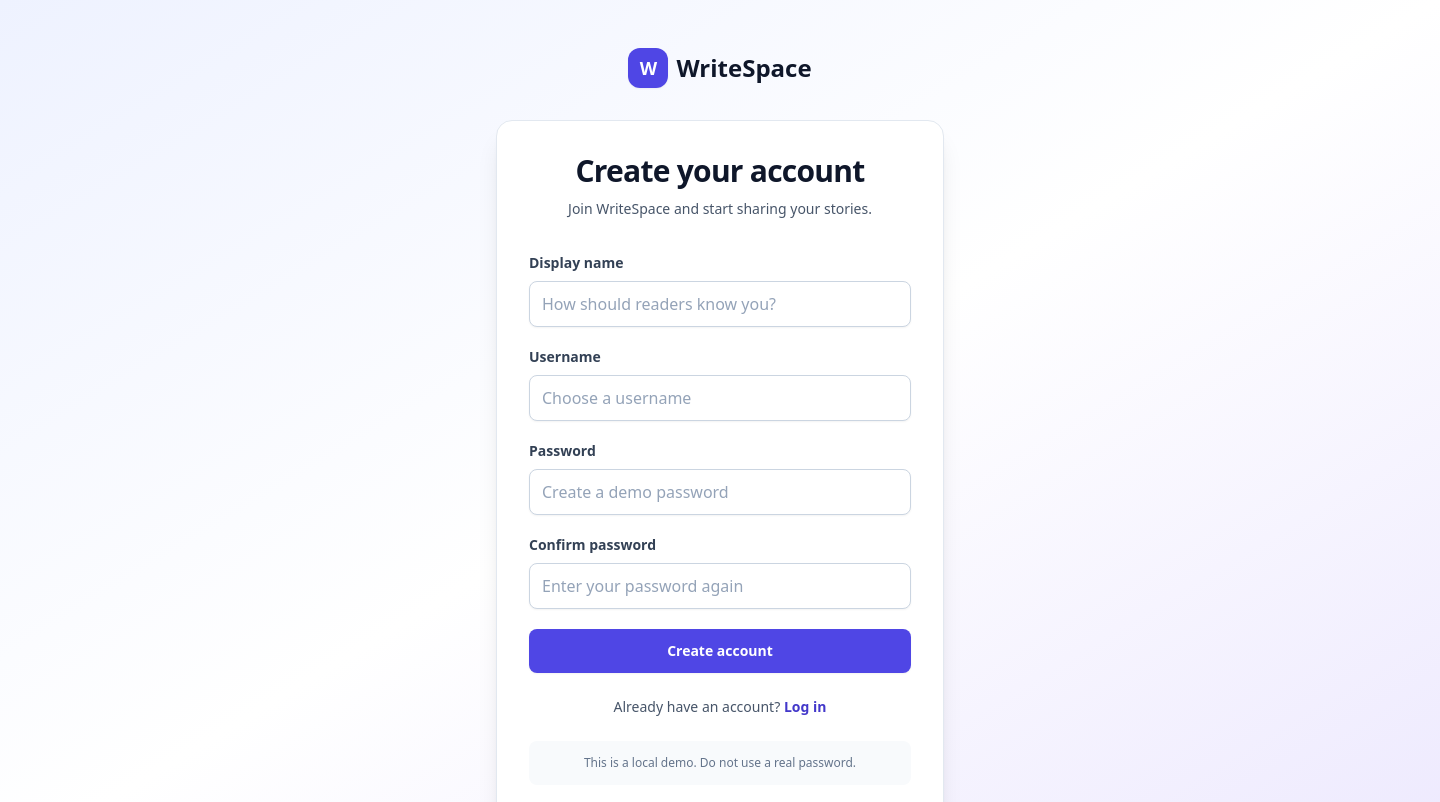
Test case: RegisterPage › validates all required registration fields
Click the button "Create account".
click(720, 651)  # box [529,629,911,673]
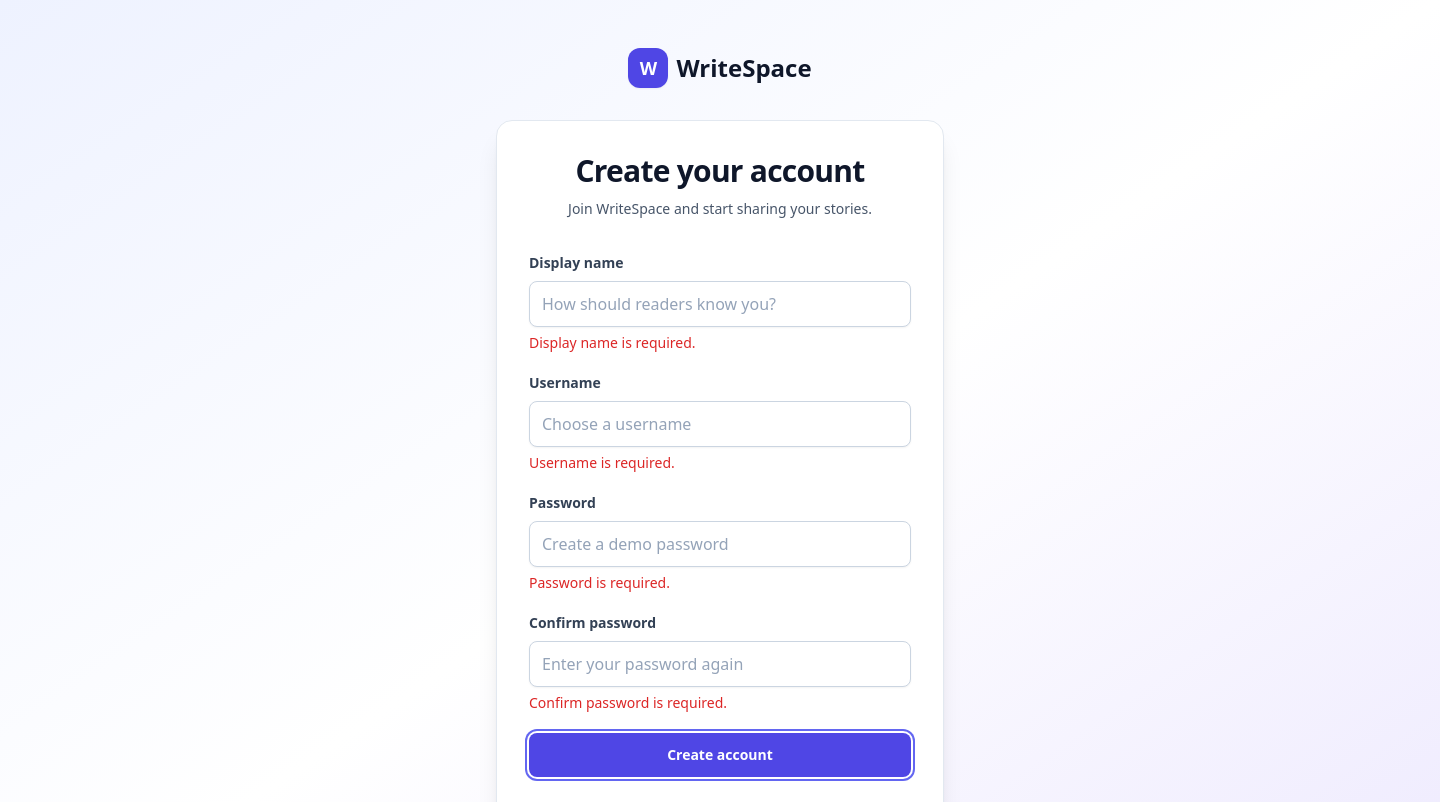
Result: the text "Display name is required." is shown at [529,333,696,352]
Result: the text "Username is required." is shown at [529,453,675,472]
Result: the text "Password is required." is shown at [529,573,670,592]
